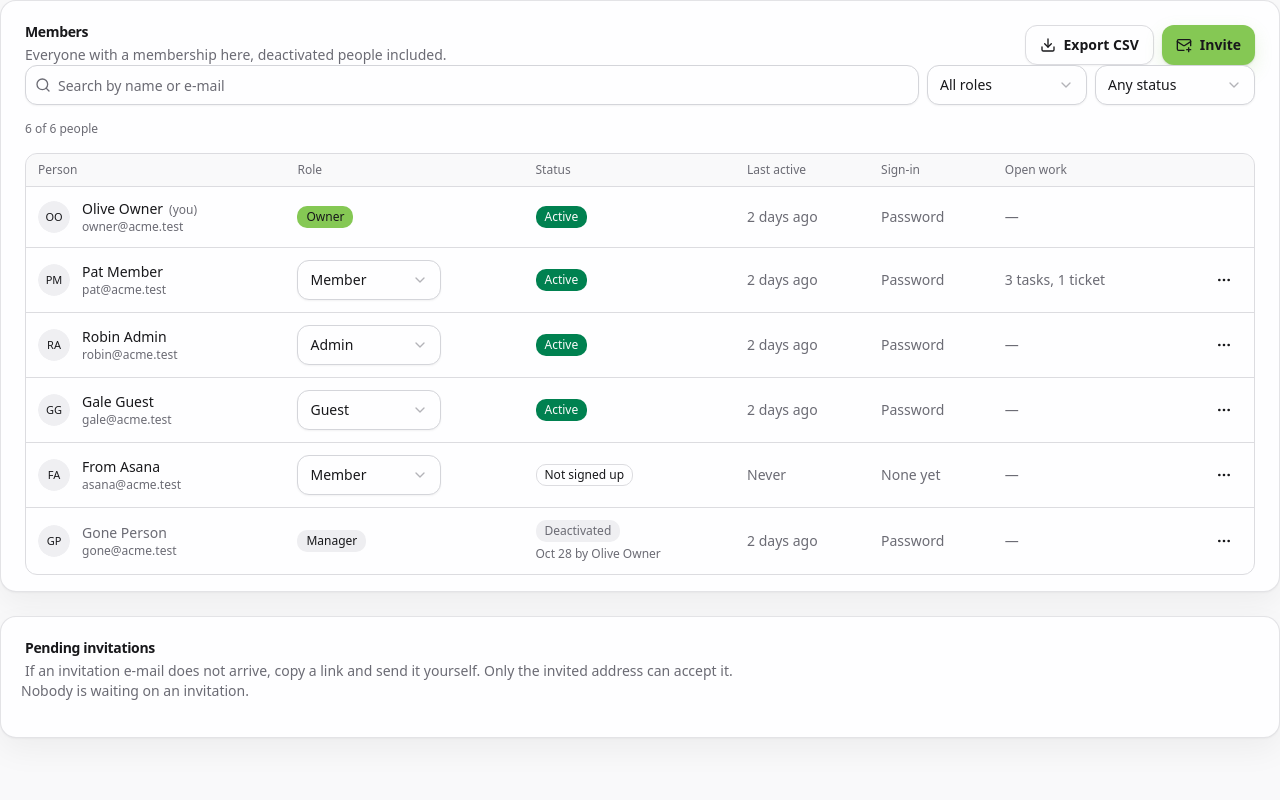
Test case: AdminMembersPage › filters by search and status
Type "robin" into the field named "Search people" at (472, 85), box left=25, top=65, right=919, bottom=105
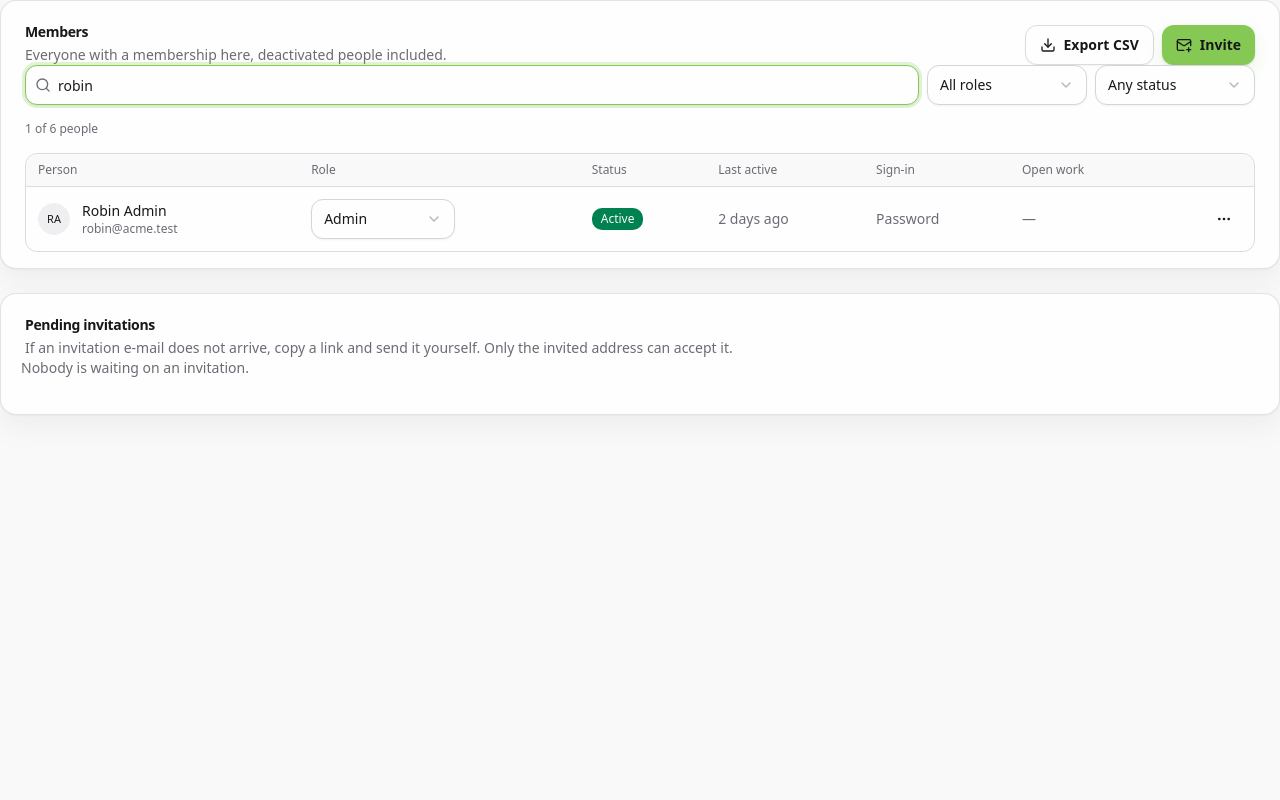
Check: the text "1 of 6 people" is shown, box left=25, top=120, right=98, bottom=137
Check: the text "Pat Member" is gone
Clear the field named "Search people" at (472, 85), box left=25, top=65, right=919, bottom=105
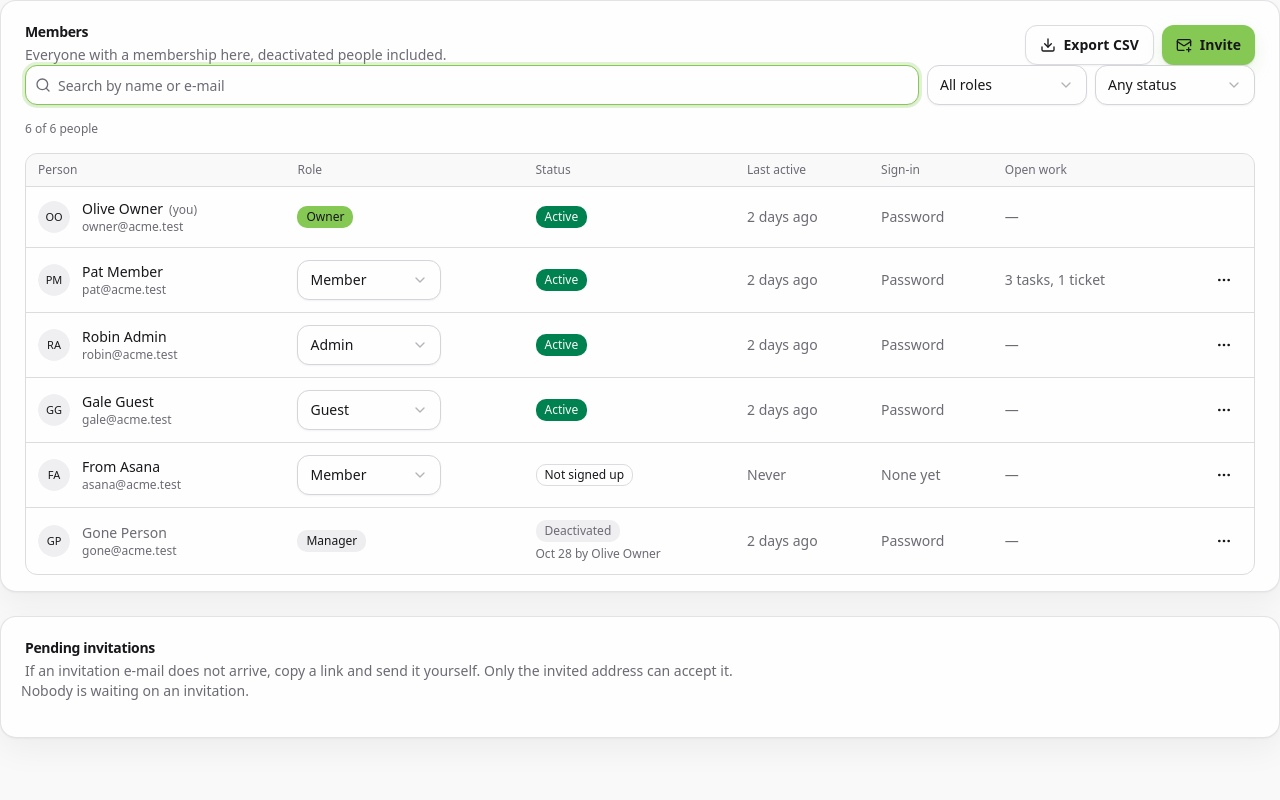
Click the dropdown named "Filter by status" at (1175, 85), box left=1095, top=65, right=1255, bottom=105
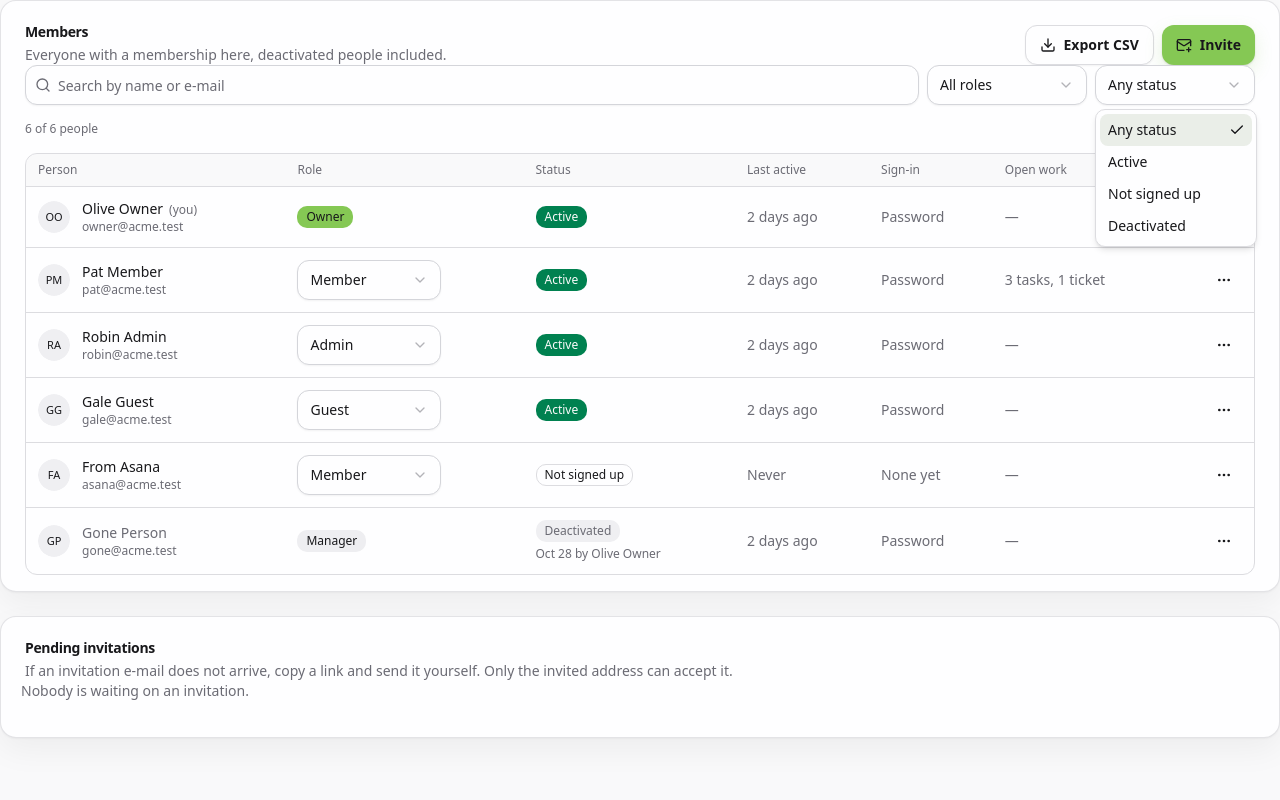
Click the option "Deactivated" at (1147, 226), box left=1108, top=216, right=1186, bottom=235
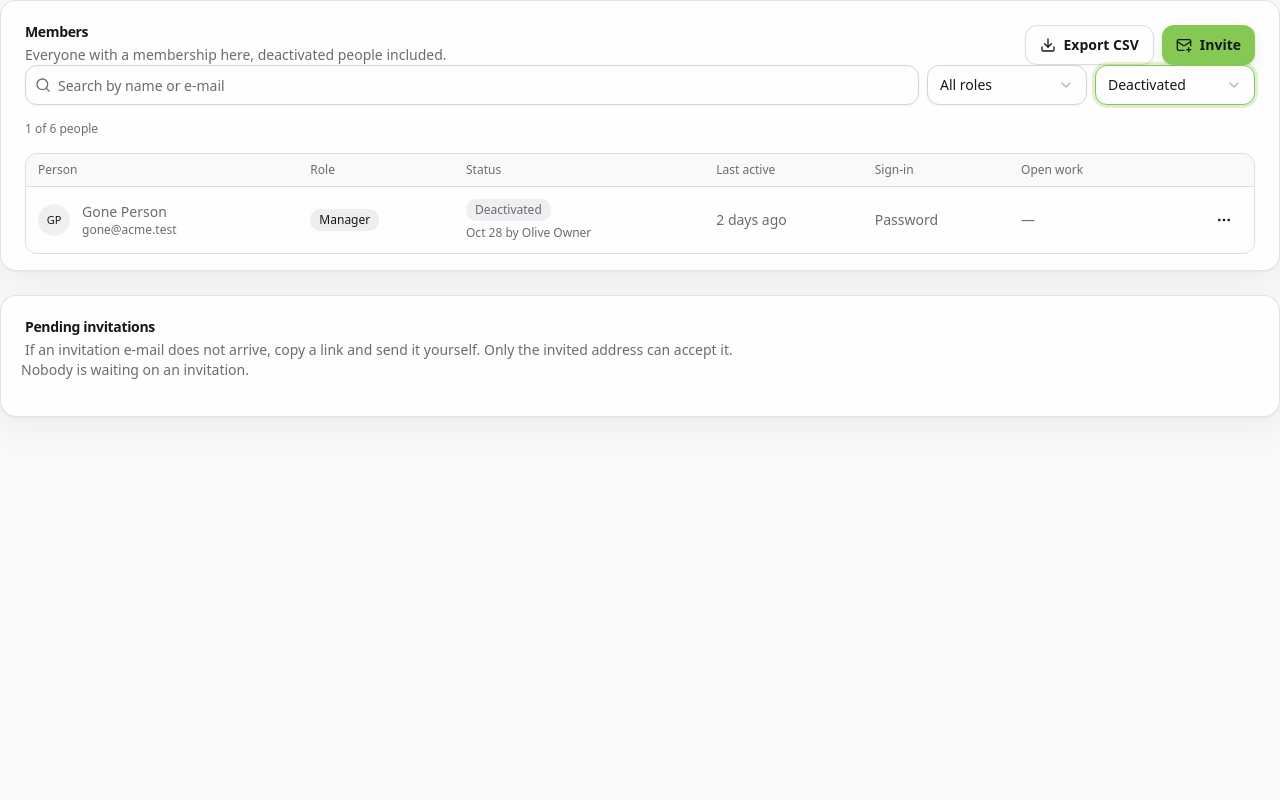
Check: the text "Gone Person" is shown, box left=82, top=202, right=176, bottom=222
Check: the text "1 of 6 people" is shown, box left=25, top=120, right=98, bottom=137
